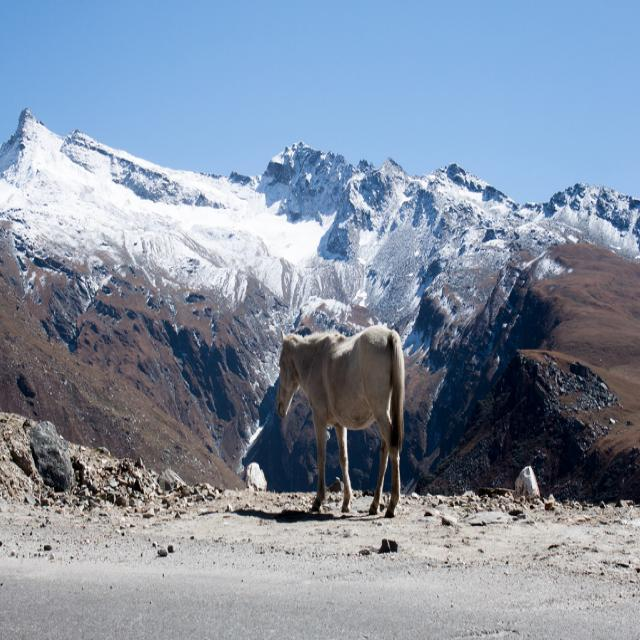Horse: (276, 326, 408, 516)
